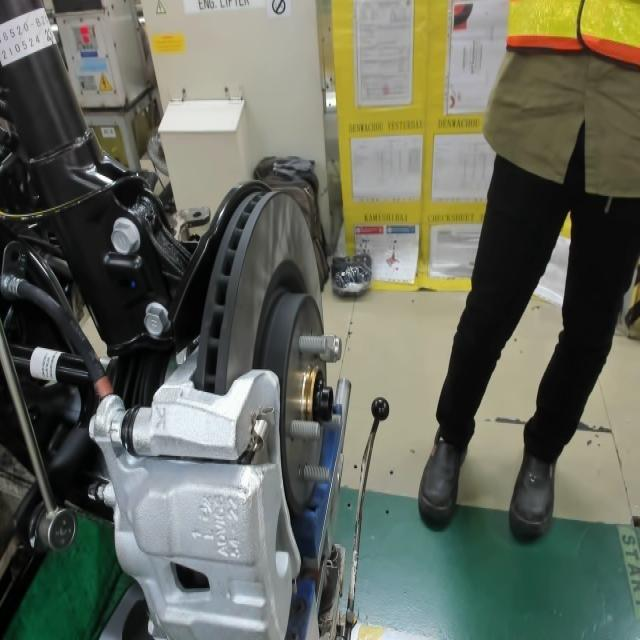Absorber LH-23: (39, 25, 58, 44)
Disc-HT: (244, 251, 346, 524)
Drive Shaft-PT: (26, 344, 67, 387)
